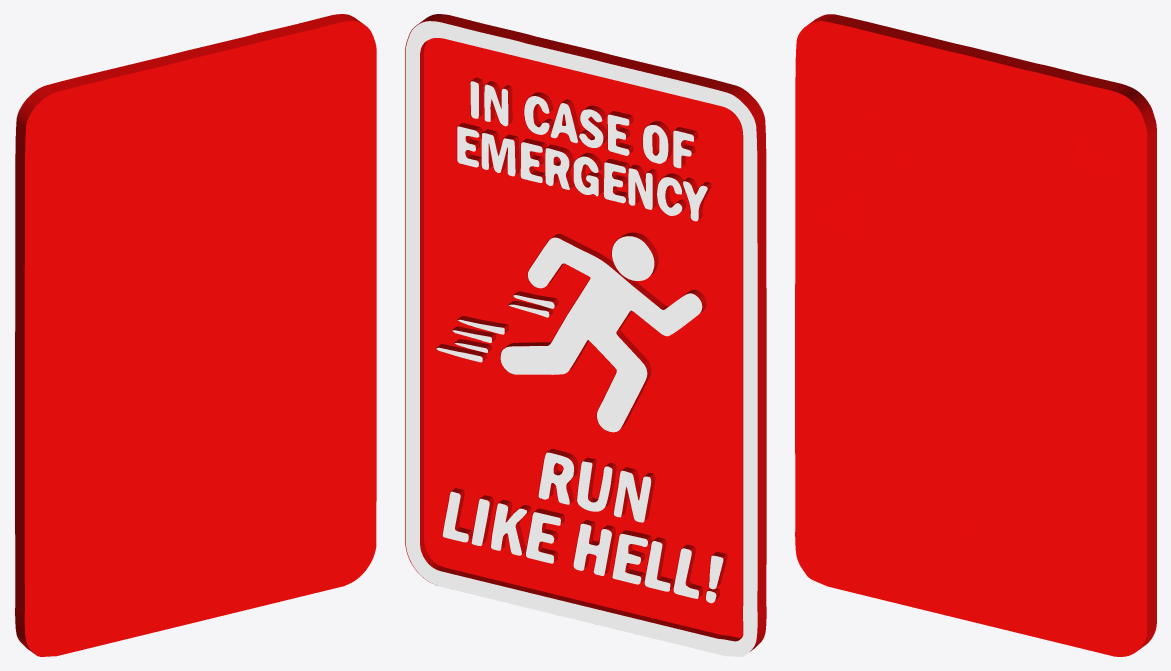
The model's file is run.fbx.
3 renders of one model, left to right at view 1: azimuth 30°, elevation 25°; view 2: azimuth 150°, elevation 25°; view 3: azimuth 330°, elevation 25°, orthographic.
Parts seen in each view (by area): view 1: imagetostl_mesh0, imagetostl_mesh0.001; view 2: imagetostl_mesh0, imagetostl_mesh0.001; view 3: imagetostl_mesh0.
Boxes of the visible parts, left/top/right/bottom form: imagetostl_mesh0: left=15, top=14, right=376, bottom=656; imagetostl_mesh0.001: left=14, top=87, right=40, bottom=649; imagetostl_mesh0: left=405, top=14, right=766, bottom=651; imagetostl_mesh0.001: left=406, top=21, right=757, bottom=656; imagetostl_mesh0: left=795, top=14, right=1156, bottom=656.
Size of the model in its own units: 855 by 1308 by 40.05.
